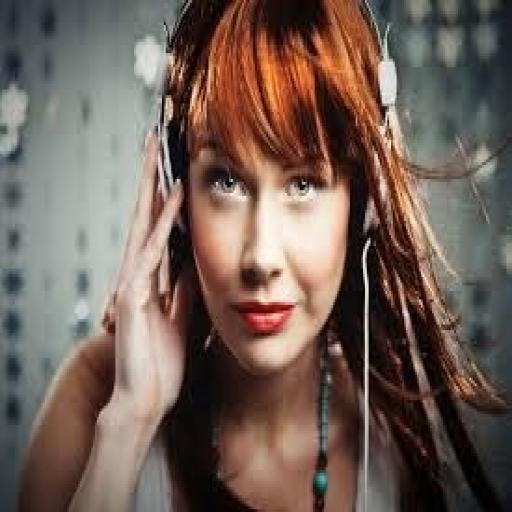listening_to_music: (17, 0, 510, 509)
